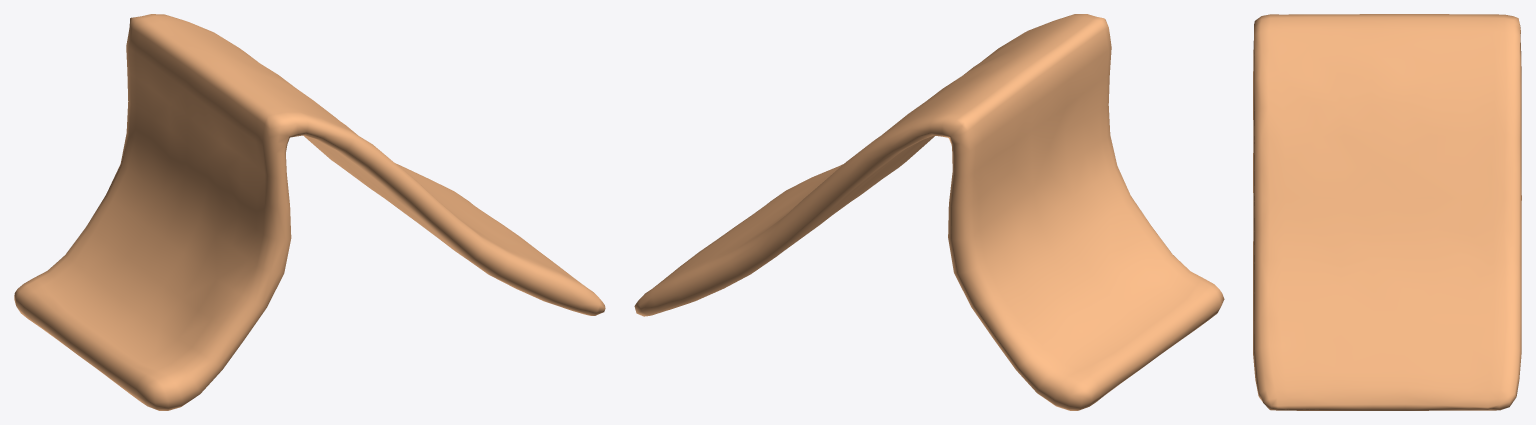
File: GalletaTejado.fbx
The picture shows the model from 3 angles, left to right: view 1: azimuth 30°, elevation 25°; view 2: azimuth 150°, elevation 25°; view 3: azimuth 270°, elevation 25°; orthographic projection. The views are drawn at different scales.
Visible parts, largest first — view 1: Galletalow; view 2: Galletalow; view 3: Galletalow.
Boxes of the visible parts, x1,y1,x2,y2 form: Galletalow: [14, 14, 605, 410]; Galletalow: [634, 14, 1224, 410]; Galletalow: [1253, 14, 1521, 410].
Bounding box in the file's own units: 364 × 212 × 205.
